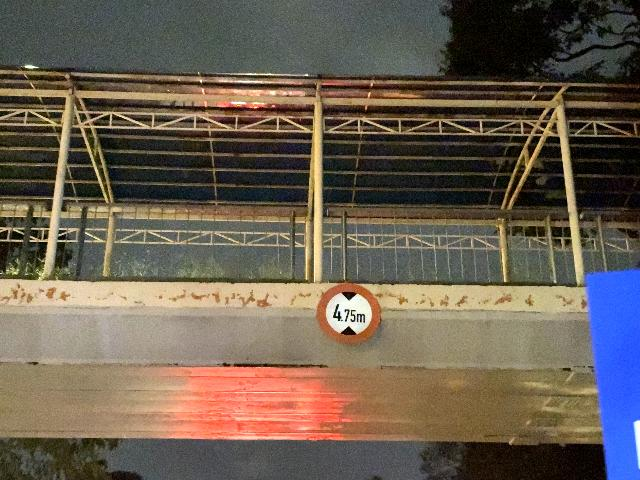han-che-chieu-cao: (315, 281, 380, 344)
